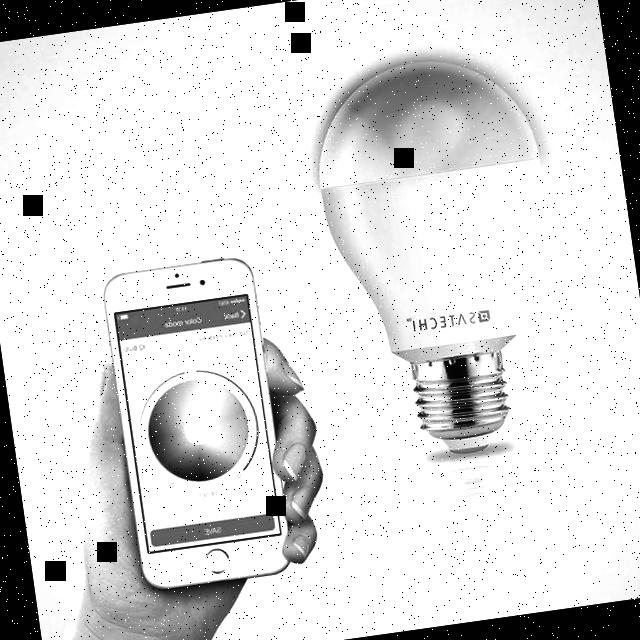light_bulb: (289, 33, 590, 480)
